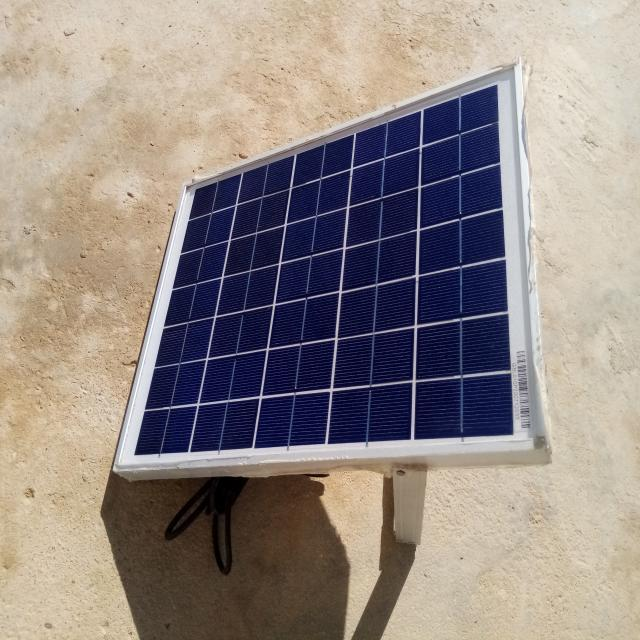Normal Solar Panel: (114, 66, 548, 466)
